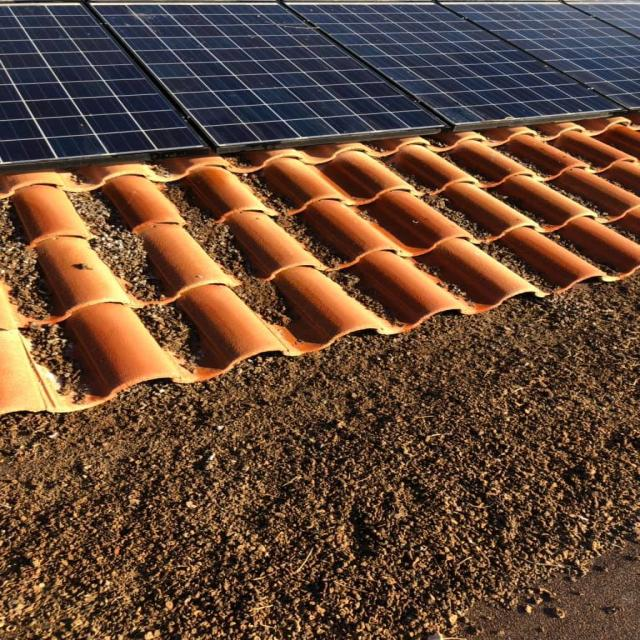clean-solar-panel: (2, 0, 640, 171)
